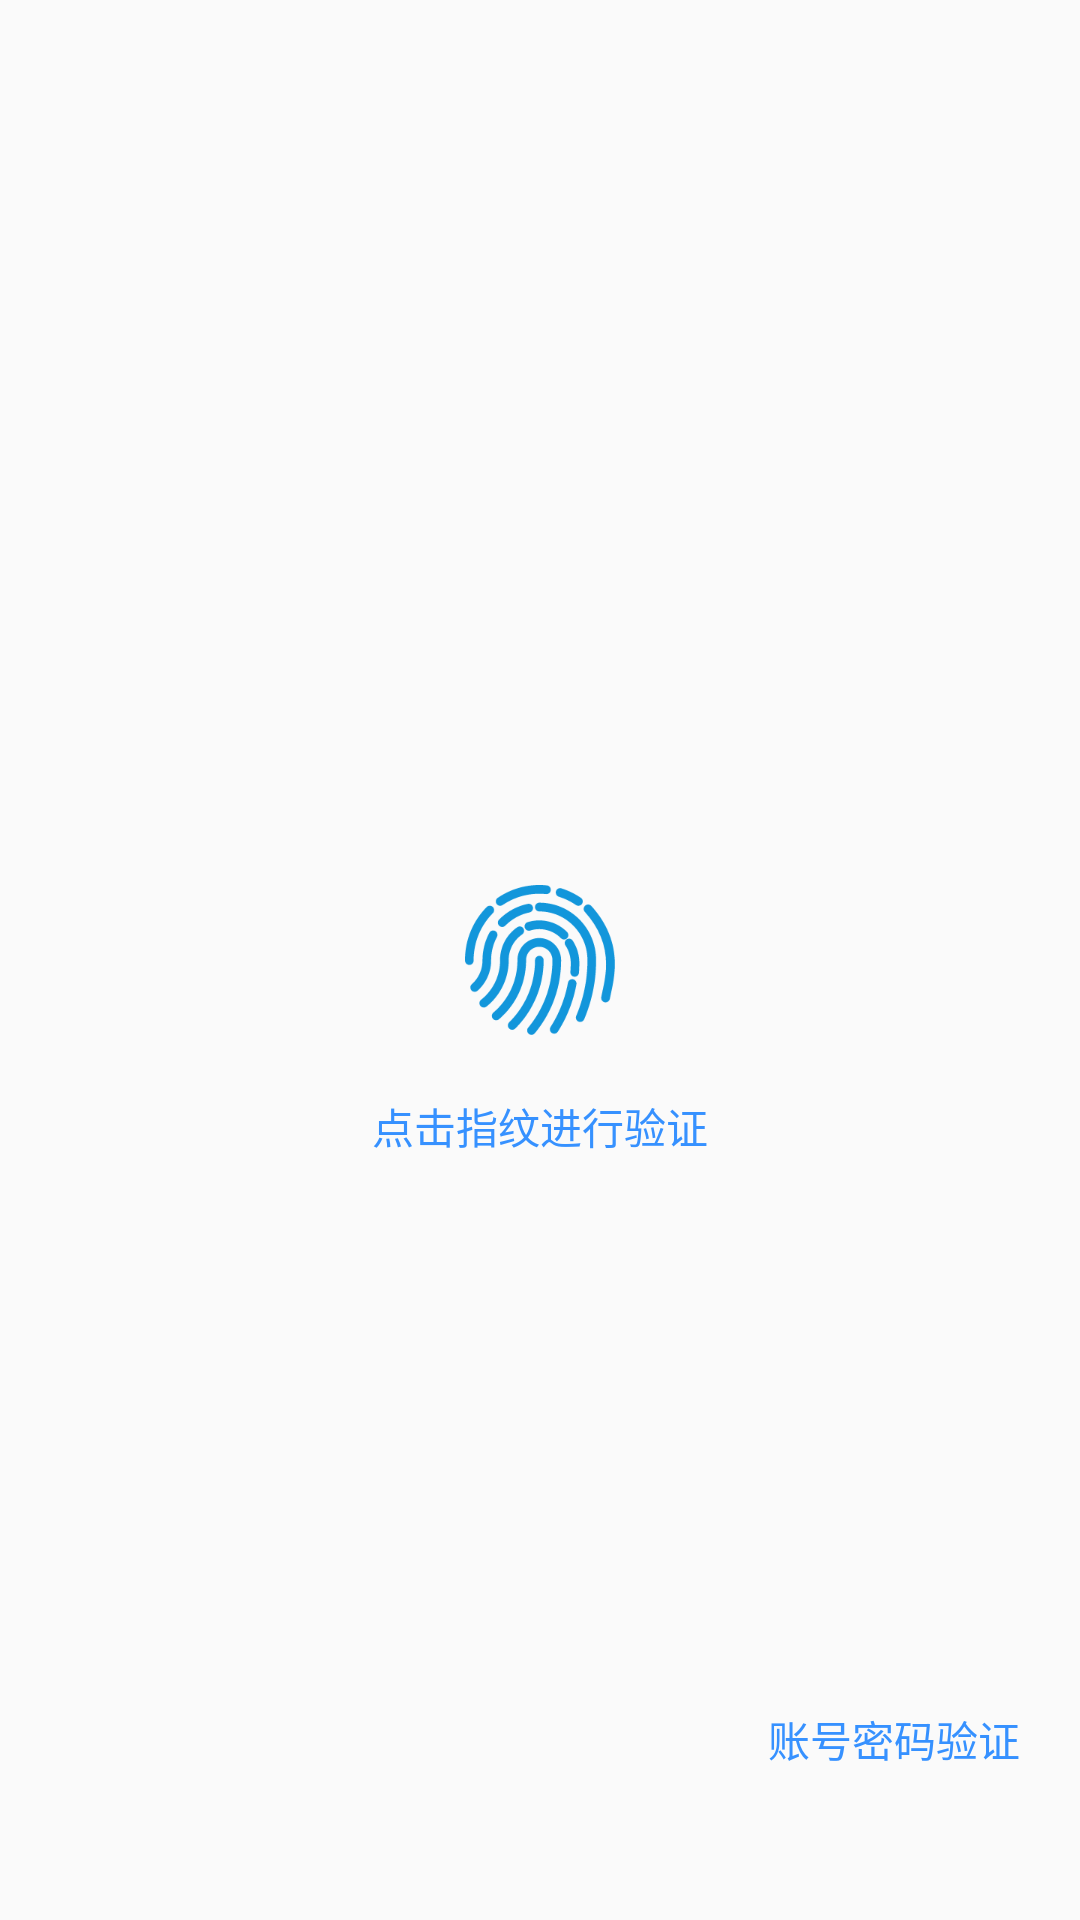

Point at icon controls on the screen. Image size 1080 × 1920, points as (x=x, y=y).
fingerprint: (x=540, y=960)
